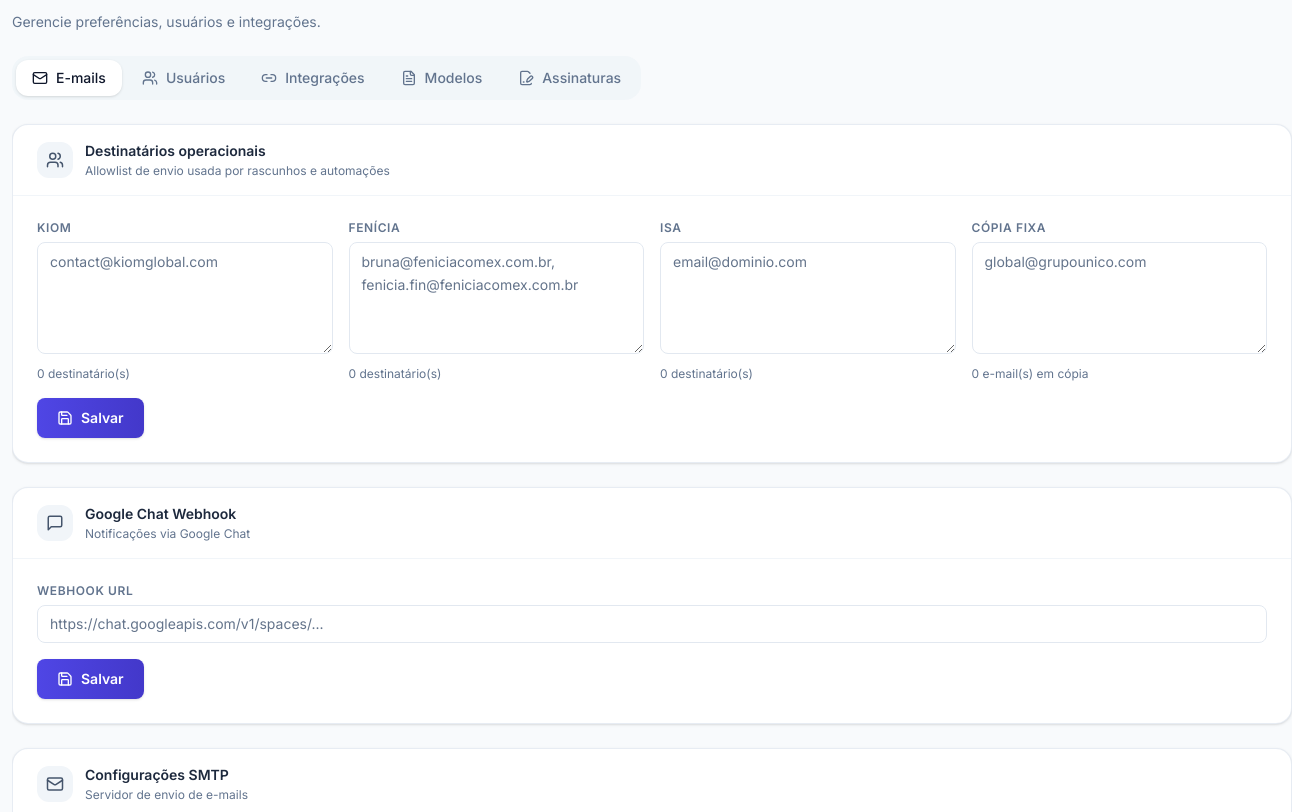
Test: SettingsPage — aba Usuários › mostra erro em vez de "0 usuários cadastrados" quando a query falha
This screenshot has width=1292, height=812.
Click the button "Usuários" at (184, 78), box [126,60,241,96]
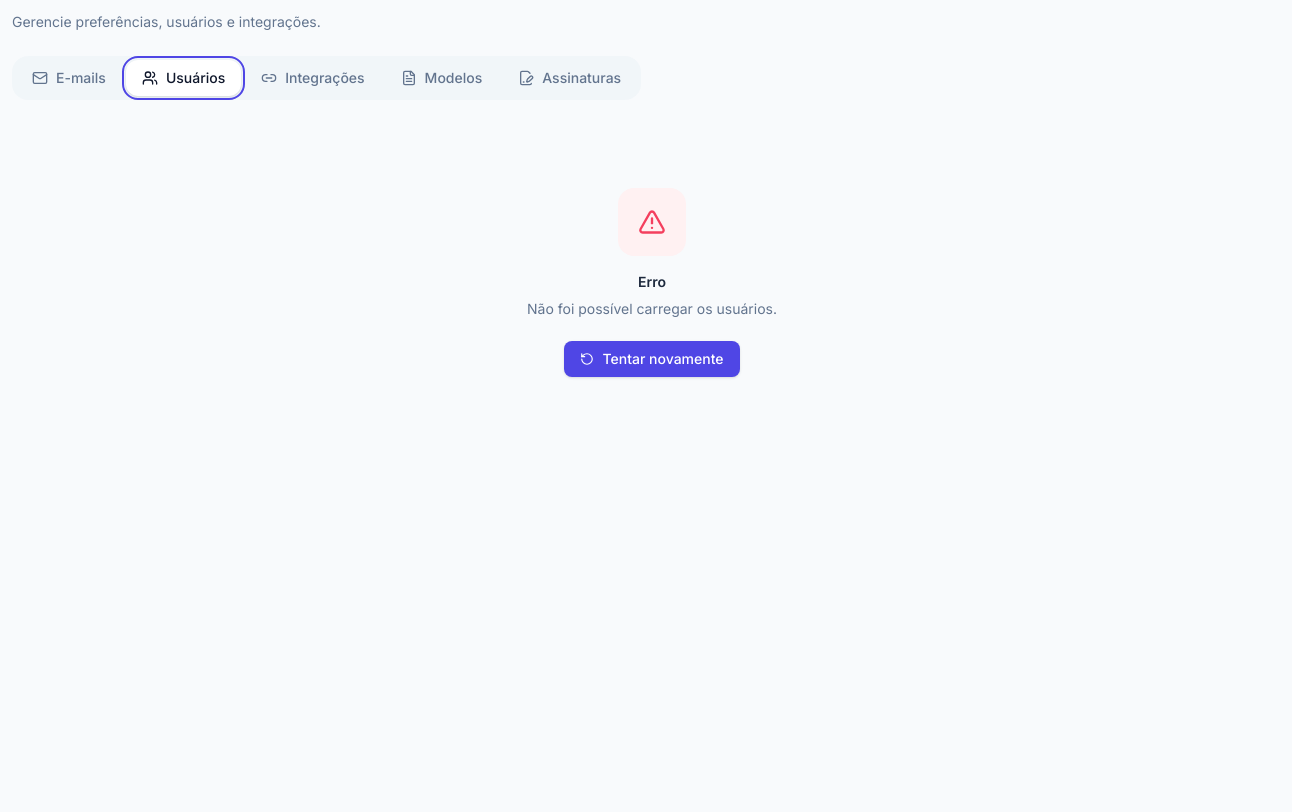
Check: the message "Erro Não foi possível carregar os usuários. Tentar novamente" is shown, box [527,188,777,377]
Check: the text "Não foi possível carregar os usuários." is shown, box [527,298,777,321]
